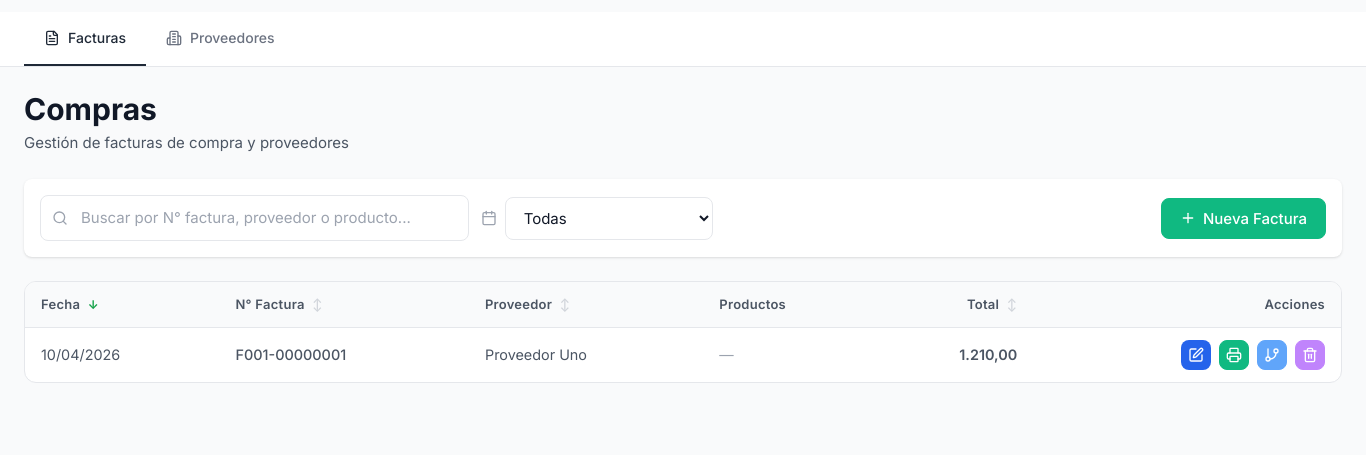
Test: Compras › carga los proveedores en el tab de proveedores
The width and height of the screenshot is (1366, 455).
Expected: the text "F001-00000001" is shown, [236,346,346,363]
Step 1. Click the button "Proveedores" → (220, 39), box [146,12,295,66]
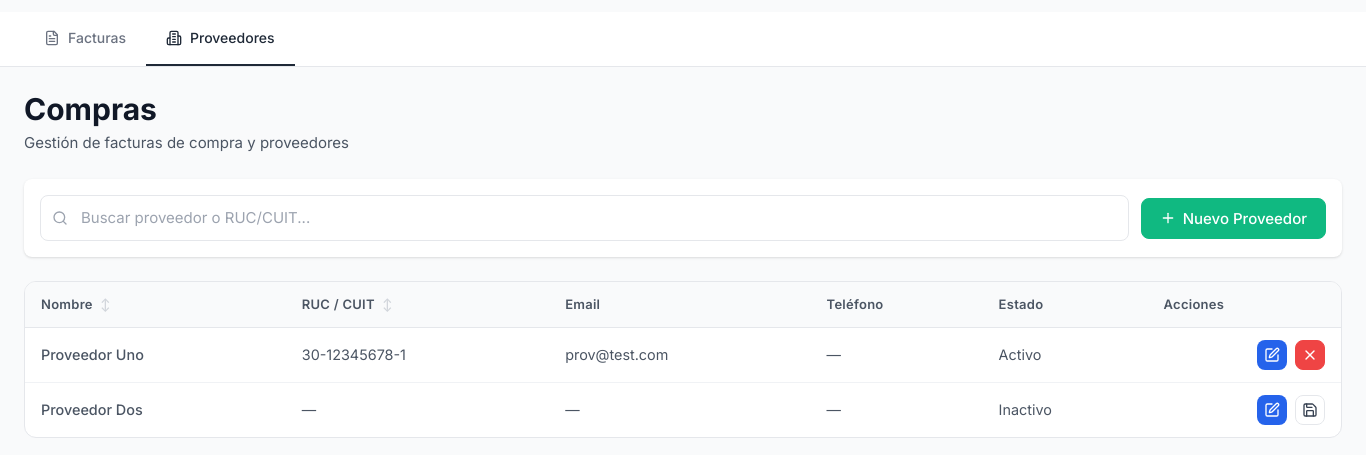
Now the text "30-12345678-1" is shown, box [286,327,549,382]
